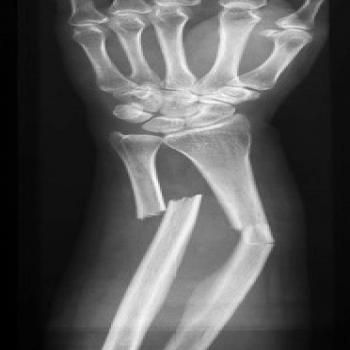Fracture: (127, 188, 204, 223), (226, 221, 292, 251)
